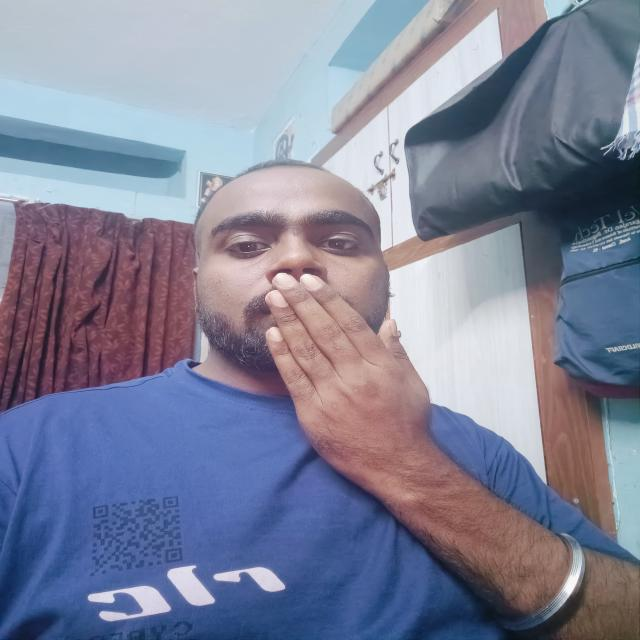Thank you: (217, 265, 525, 493)
